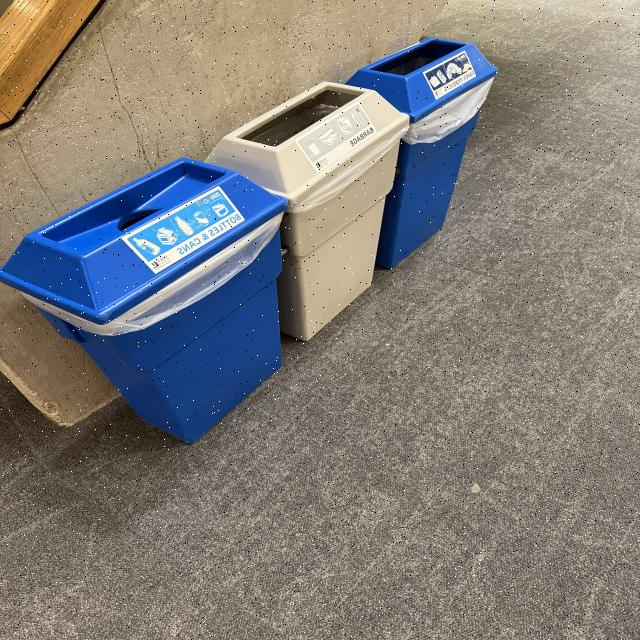Dustbin: (0, 34, 497, 449)
